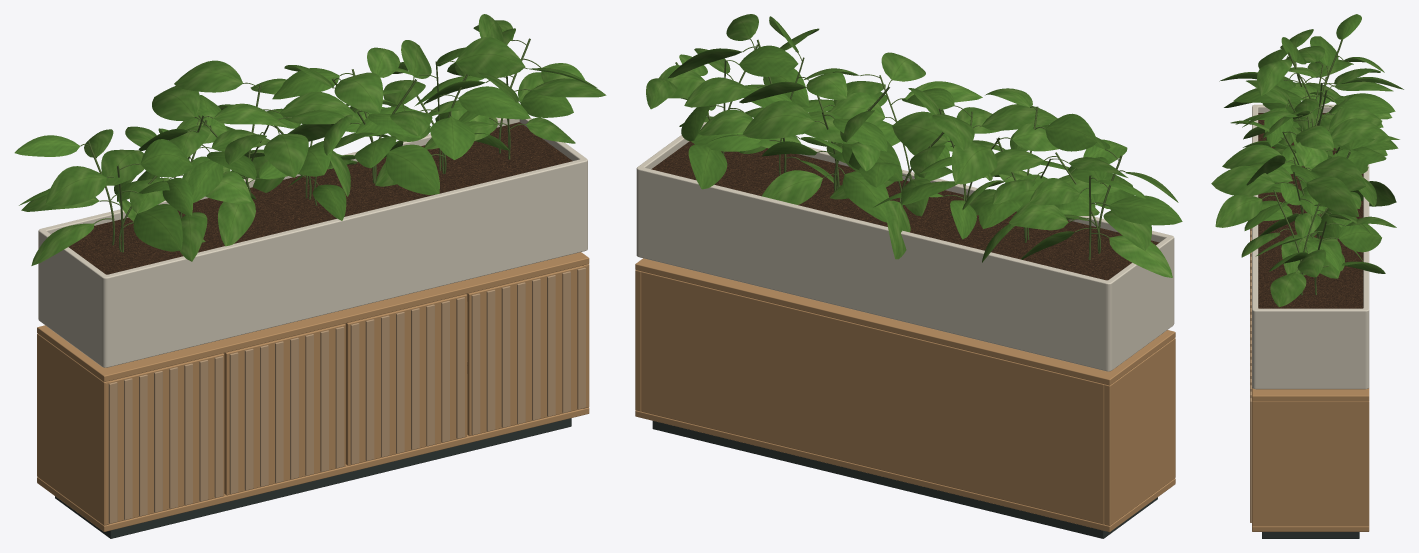
The model's file is botanicalDivider-9.glb.
3 renders of one model, left to right at view 1: azimuth 30°, elevation 25°; view 2: azimuth 150°, elevation 25°; view 3: azimuth 270°, elevation 25°, orthographic. The views are drawn at different scales.
Parts seen in each view (by area): view 1: Planter_pothos_leaves, Planter_oiled_oak, StoragePlanter_Batten (×32), StoragePlanter_Door (×4), Planter_loose_soil, StoragePlanter_Side, StoragePlanter_Top, StoragePlanter_Plinth, StoragePlanter_Bottom, Planter_pothos_stems, Planter_matte_accent; view 2: StoragePlanter_Back, Planter_pothos_leaves, Planter_oiled_oak, Planter_loose_soil, StoragePlanter_Side (×2), StoragePlanter_Top, StoragePlanter_Plinth, StoragePlanter_Bottom, Planter_pothos_stems, Planter_matte_accent; view 3: Planter_pothos_leaves, StoragePlanter_Side, Planter_oiled_oak, Planter_loose_soil, Planter_pothos_stems, StoragePlanter_Top, StoragePlanter_Bottom, StoragePlanter_Plinth, StoragePlanter_Batten.
Part boxes in pixels (<box>): Planter_pothos_leaves: <box>14,14,606,265</box>; Planter_oiled_oak: <box>38,117,587,367</box>; StoragePlanter_Batten (×32): <box>108,267,585,523</box>; StoragePlanter_Door (×4): <box>105,265,588,524</box>; Planter_loose_soil: <box>68,122,572,274</box>; StoragePlanter_Side: <box>37,333,109,525</box>; StoragePlanter_Top: <box>37,252,589,381</box>; StoragePlanter_Plinth: <box>55,418,571,538</box>; StoragePlanter_Bottom: <box>37,374,589,531</box>; Planter_pothos_stems: <box>80,38,541,252</box>; Planter_matte_accent: <box>112,289,331,349</box>; StoragePlanter_Back: <box>641,271,1104,524</box>; Planter_pothos_leaves: <box>646,14,1182,277</box>; Planter_oiled_oak: <box>636,122,1174,371</box>; Planter_loose_soil: <box>651,141,1159,280</box>; StoragePlanter_Side (×2): <box>635,270,1175,525</box>; StoragePlanter_Top: <box>635,258,1175,385</box>; StoragePlanter_Plinth: <box>652,421,1157,538</box>; StoragePlanter_Bottom: <box>635,410,1175,532</box>; Planter_pothos_stems: <box>675,39,1125,259</box>; Planter_matte_accent: <box>643,229,1081,347</box>; Planter_pothos_leaves: <box>1211,14,1403,307</box>; StoragePlanter_Side: <box>1252,401,1369,526</box>; Planter_oiled_oak: <box>1252,104,1369,389</box>; Planter_loose_soil: <box>1258,113,1363,308</box>; Planter_pothos_stems: <box>1262,39,1350,295</box>; StoragePlanter_Top: <box>1252,387,1369,401</box>; StoragePlanter_Bottom: <box>1252,526,1369,531</box>; StoragePlanter_Plinth: <box>1262,532,1359,538</box>; StoragePlanter_Batten: <box>1250,398,1251,522</box>.
Size of the model in its own units: 2.26 by 1.58 by 0.7924.
Materials: 10 (2 with a texture image).
